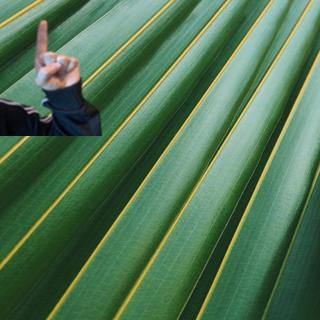IRRITATED: (32, 18, 81, 91)
